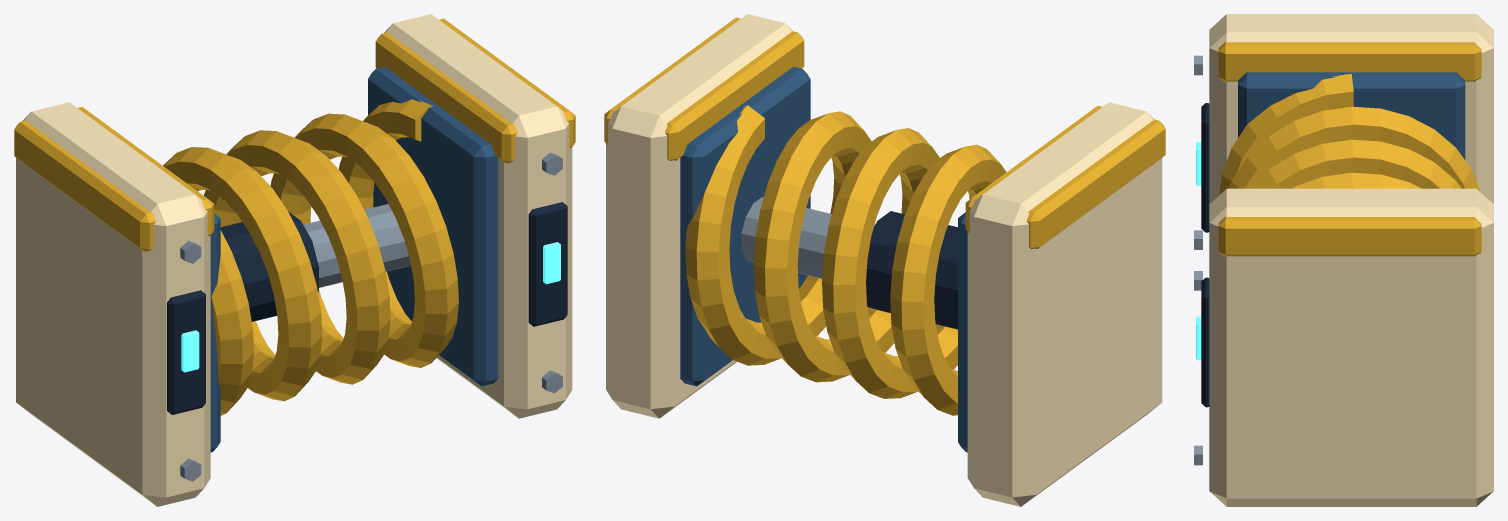
Rendered from spring.glb.
The picture shows the model from 3 angles, left to right: view 1: azimuth 30°, elevation 25°; view 2: azimuth 150°, elevation 25°; view 3: azimuth 270°, elevation 25°; orthographic projection.
Visible parts, largest first — view 1: spring__Cream, spring__CourierYellow, spring__Cobalt, spring__InkNavy, spring__Metal, spring__CyanGlow; view 2: spring__Cream, spring__CourierYellow, spring__Cobalt, spring__InkNavy, spring__Metal; view 3: spring__Cream, spring__CourierYellow, spring__Cobalt, spring__InkNavy, spring__Metal, spring__CyanGlow.
Boxes of the visible parts, <box> form: spring__Cream: <box>16,14,572,506</box>; spring__CourierYellow: <box>14,18,575,415</box>; spring__Cobalt: <box>210,66,498,452</box>; spring__InkNavy: <box>167,202,567,414</box>; spring__Metal: <box>180,152,562,481</box>; spring__CyanGlow: <box>181,242,560,372</box>; spring__Cream: <box>606,14,1162,506</box>; spring__CourierYellow: <box>604,17,1165,415</box>; spring__Cobalt: <box>680,66,967,452</box>; spring__InkNavy: <box>866,211,957,329</box>; spring__Metal: <box>741,197,874,278</box>; spring__Cream: <box>1209,14,1493,506</box>; spring__CourierYellow: <box>1218,15,1481,256</box>; spring__Cobalt: <box>1238,72,1465,159</box>; spring__InkNavy: <box>1201,103,1209,407</box>; spring__Metal: <box>1194,55,1202,465</box>; spring__CyanGlow: <box>1196,142,1201,360</box>.
Bounding box in the file's own units: 1 × 0.668 × 0.605.
